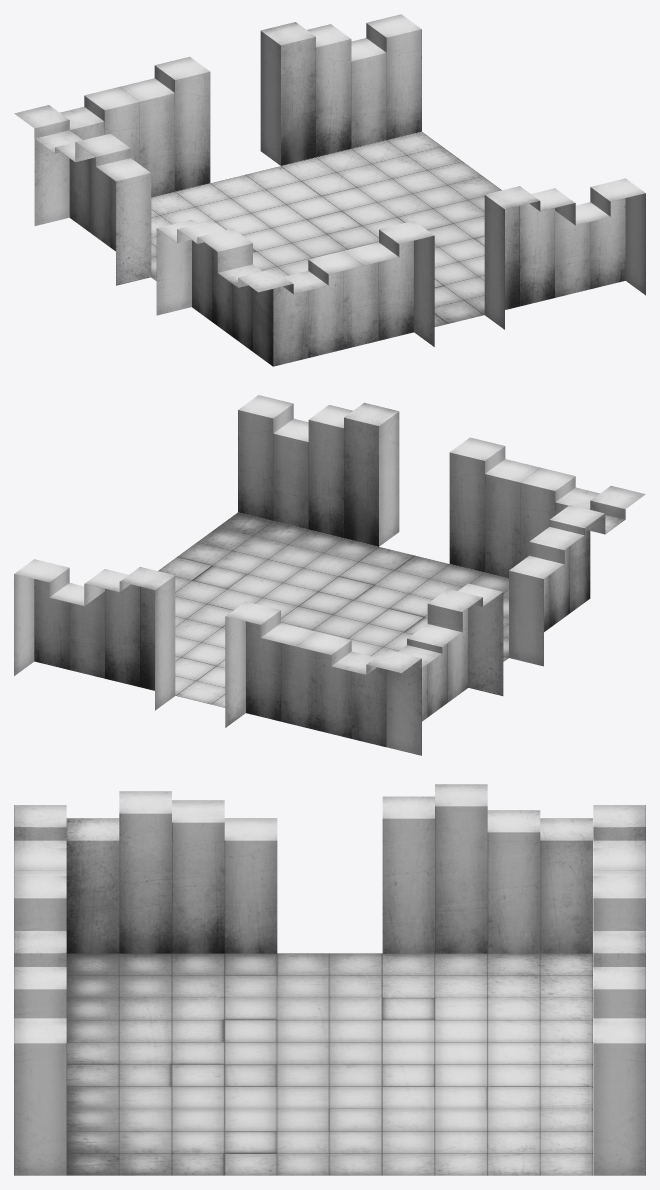
The model's file is Cuarto.fbx.
3 renders of one model, top to bottom at view 1: azimuth 30°, elevation 25°; view 2: azimuth 150°, elevation 25°; view 3: azimuth 270°, elevation 25°, orthographic. The views are drawn at different scales.
Visible parts, largest first — view 1: Plane.012; view 2: Plane.012; view 3: Plane.012.
Boxes of the visible parts, box(x1,y1,x2,y2) form: Plane.012: box(14, 14, 645, 366); Plane.012: box(14, 395, 645, 755); Plane.012: box(14, 784, 645, 1175).
Size of the model in its own units: 10.91 by 3.24 by 11.92.
